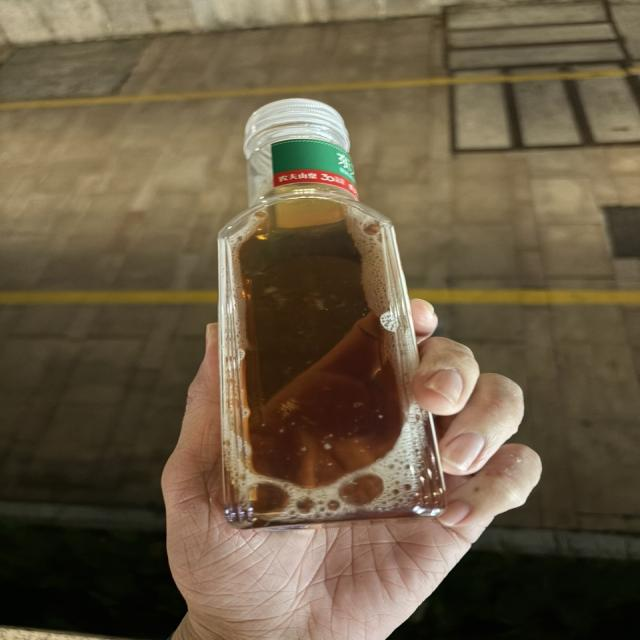medium: (218, 100, 444, 528)
